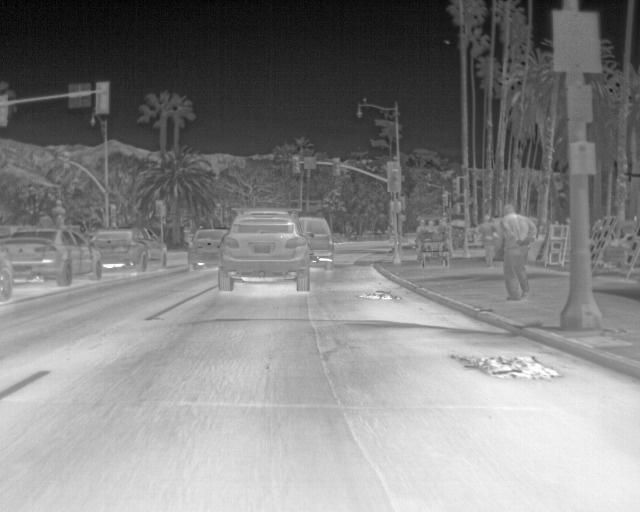bicycle: (218, 205, 315, 295), (1, 227, 104, 287), (90, 227, 170, 274), (294, 216, 337, 272), (186, 227, 233, 273)
empty: (494, 201, 540, 300), (476, 210, 500, 263)
